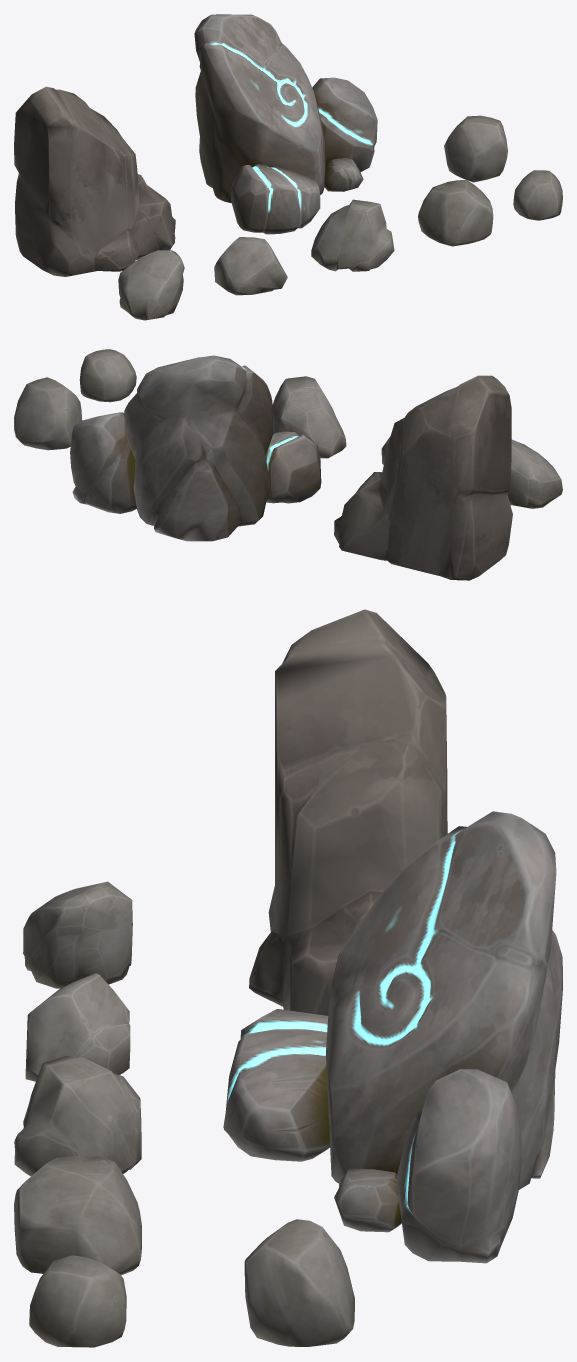
The model's file is stylized_rock_01.glb.
3 views of the same model, one above another, from view 1: azimuth 30°, elevation 25°; view 2: azimuth 150°, elevation 25°; view 3: azimuth 270°, elevation 25° (orthographic). The views are drawn at different scales.
Parts seen in each view (by area): view 1: polySurface7, polySurface6, polySurface1, polySurface4, polySurface3, polySurface5, polySurface2, polySurface11; view 2: polySurface7, polySurface6, polySurface5, polySurface1, polySurface3, polySurface11; view 3: polySurface7, polySurface6, polySurface4, polySurface5, polySurface1, polySurface3, polySurface2, polySurface11.
Part boxes in pixels (x1,y1,x2,y2): polySurface7: [194, 14, 377, 234]; polySurface6: [14, 86, 175, 276]; polySurface1: [311, 199, 394, 271]; polySurface4: [418, 180, 493, 246]; polySurface3: [118, 250, 184, 320]; polySurface5: [444, 115, 507, 182]; polySurface2: [214, 237, 287, 295]; polySurface11: [513, 170, 562, 220]; polySurface7: [70, 355, 321, 541]; polySurface6: [334, 375, 512, 580]; polySurface5: [14, 377, 82, 450]; polySurface1: [272, 376, 346, 458]; polySurface3: [508, 439, 562, 508]; polySurface11: [79, 349, 136, 402]; polySurface7: [223, 811, 562, 1263]; polySurface6: [249, 609, 447, 1015]; polySurface4: [14, 1156, 141, 1275]; polySurface5: [244, 1219, 354, 1346]; polySurface1: [14, 1055, 141, 1176]; polySurface3: [23, 881, 132, 988]; polySurface2: [25, 973, 130, 1081]; polySurface11: [29, 1255, 126, 1347].
Size of the model in its own units: 3.1 by 1.15 by 1.69.
Materials: 1 (1 with a texture image).
